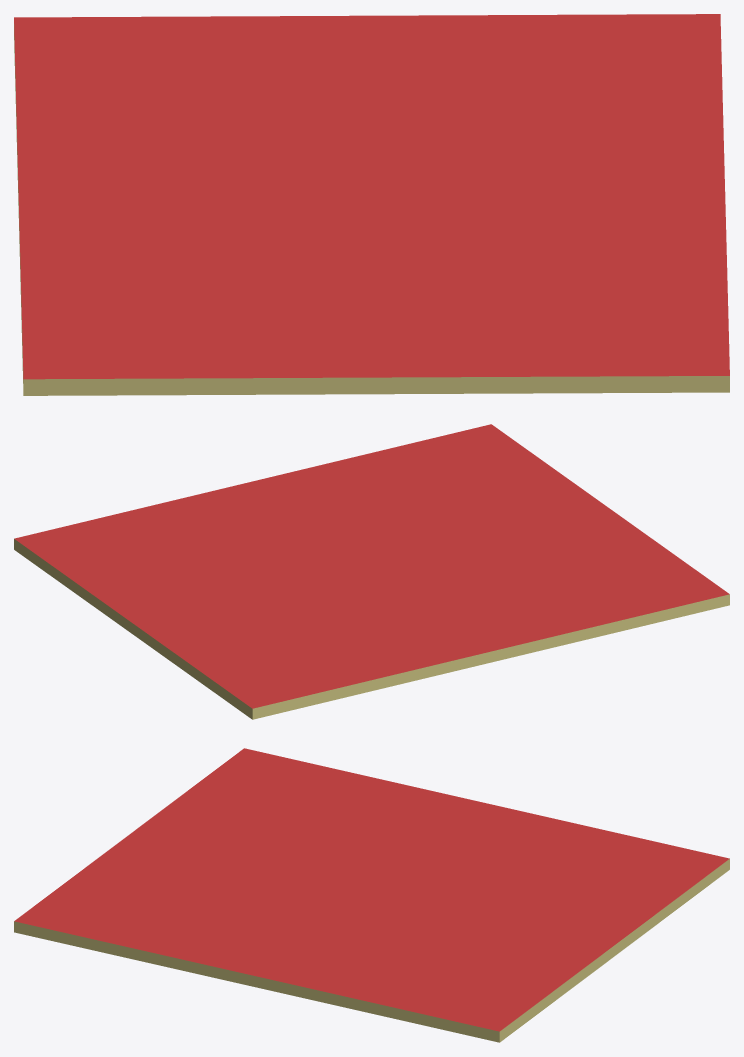
3 renders of one model, top to bottom at view 1: azimuth 30°, elevation 25°; view 2: azimuth 150°, elevation 25°; view 3: azimuth 270°, elevation 25°, orthographic. The views are drawn at different scales.
Size of the model in its own units: 5.58 by 5.85 by 0.146.
